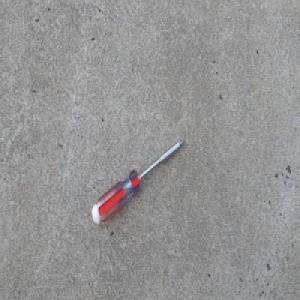Screwdriver: (91, 136, 187, 225)
